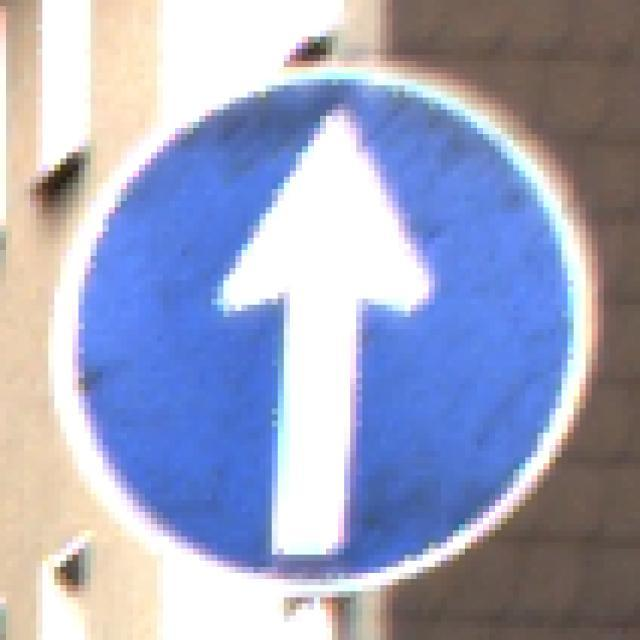compulsary ahead: (71, 76, 581, 582)
